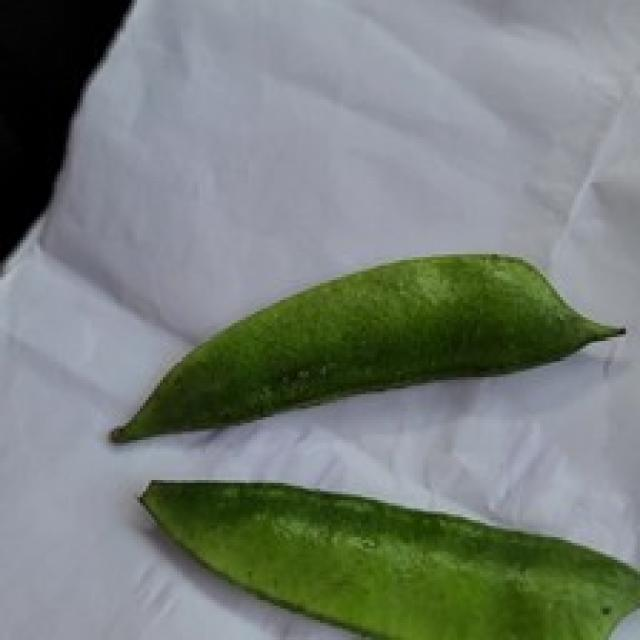Bean: (105, 248, 626, 443), (134, 474, 637, 637)
